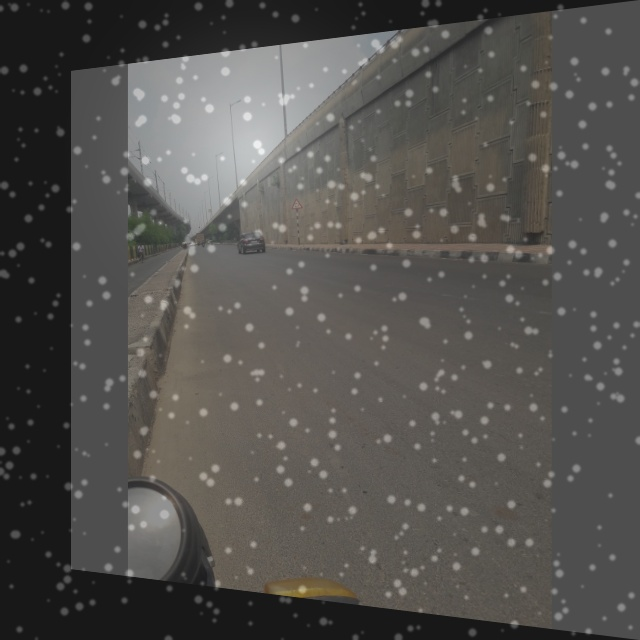Round_About: (284, 191, 308, 216)
